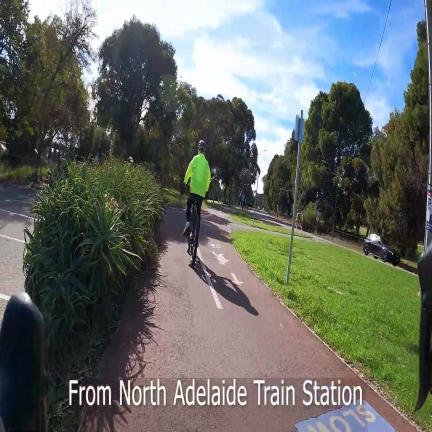Bike_Lane: (83, 208, 415, 432)
